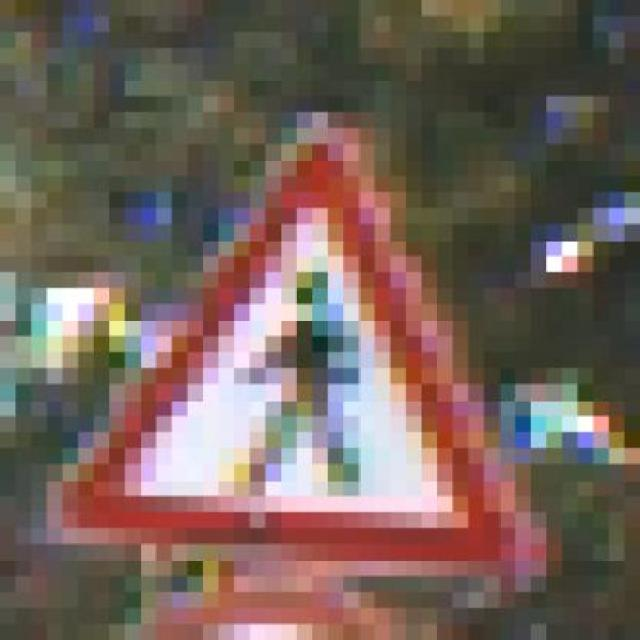Pedestrian Crossing: (47, 95, 547, 592)
